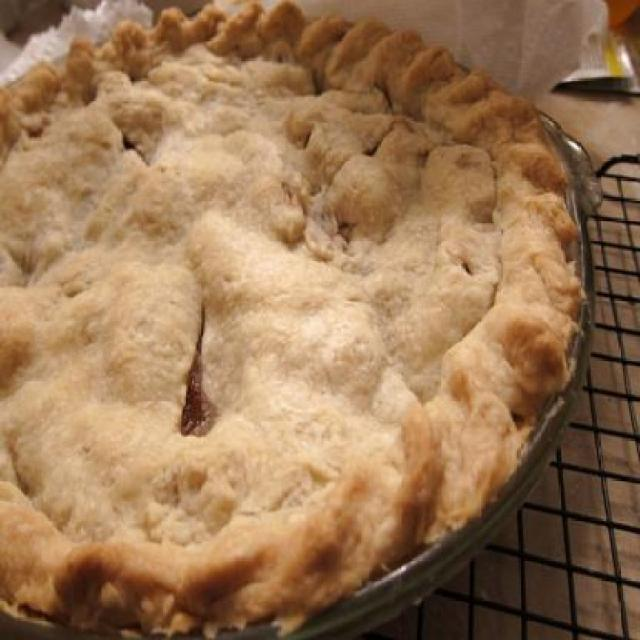Apple: (1, 29, 582, 606)
